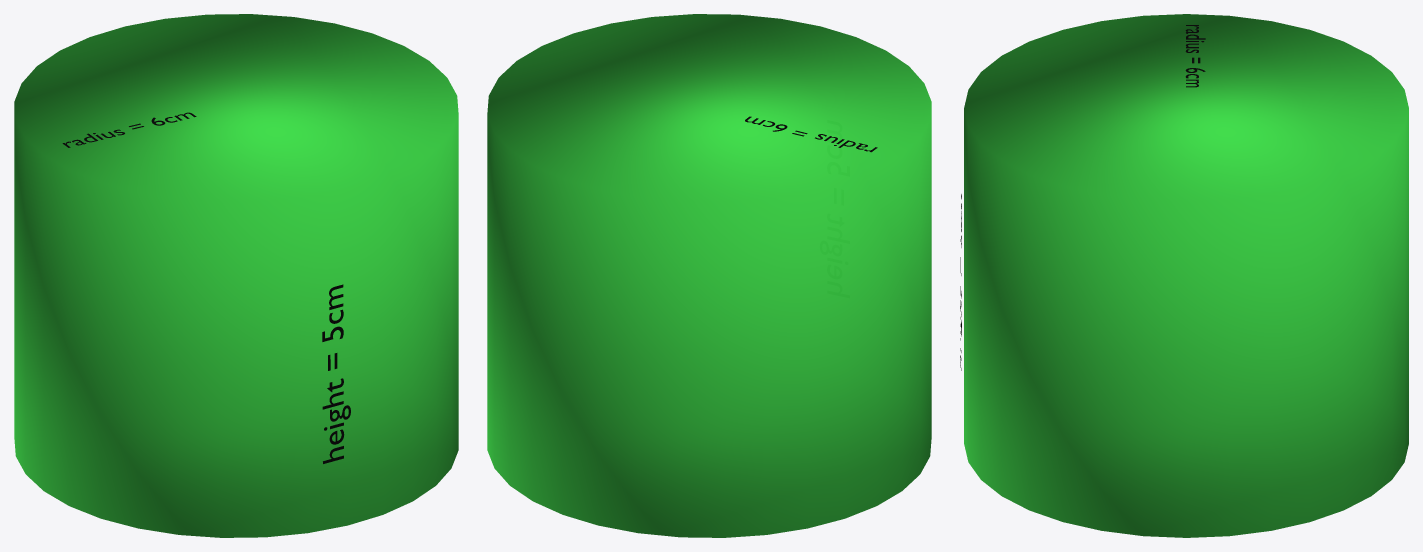
The picture shows the model from 3 angles, left to right: view 1: azimuth 30°, elevation 25°; view 2: azimuth 150°, elevation 25°; view 3: azimuth 270°, elevation 25°; orthographic projection.
Parts seen in each view (by area): view 1: Cylinder, height; view 2: Cylinder; view 3: Cylinder.
Part boxes in pixels (x1,y1,x2,y2): Cylinder: [14, 14, 458, 537]; height: [322, 284, 350, 463]; Cylinder: [487, 14, 931, 537]; Cylinder: [964, 14, 1408, 537].
Size of the model in its own units: 0.6 by 0.5016 by 0.6055.
